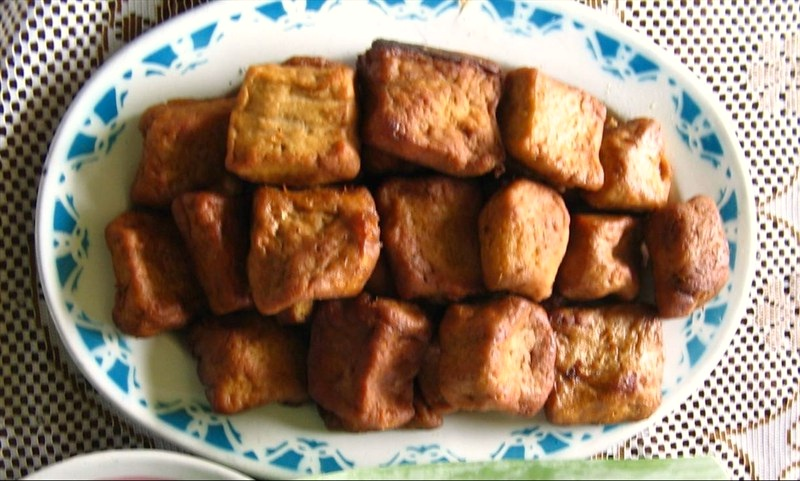Tahu Goreng: (122, 67, 663, 398)
